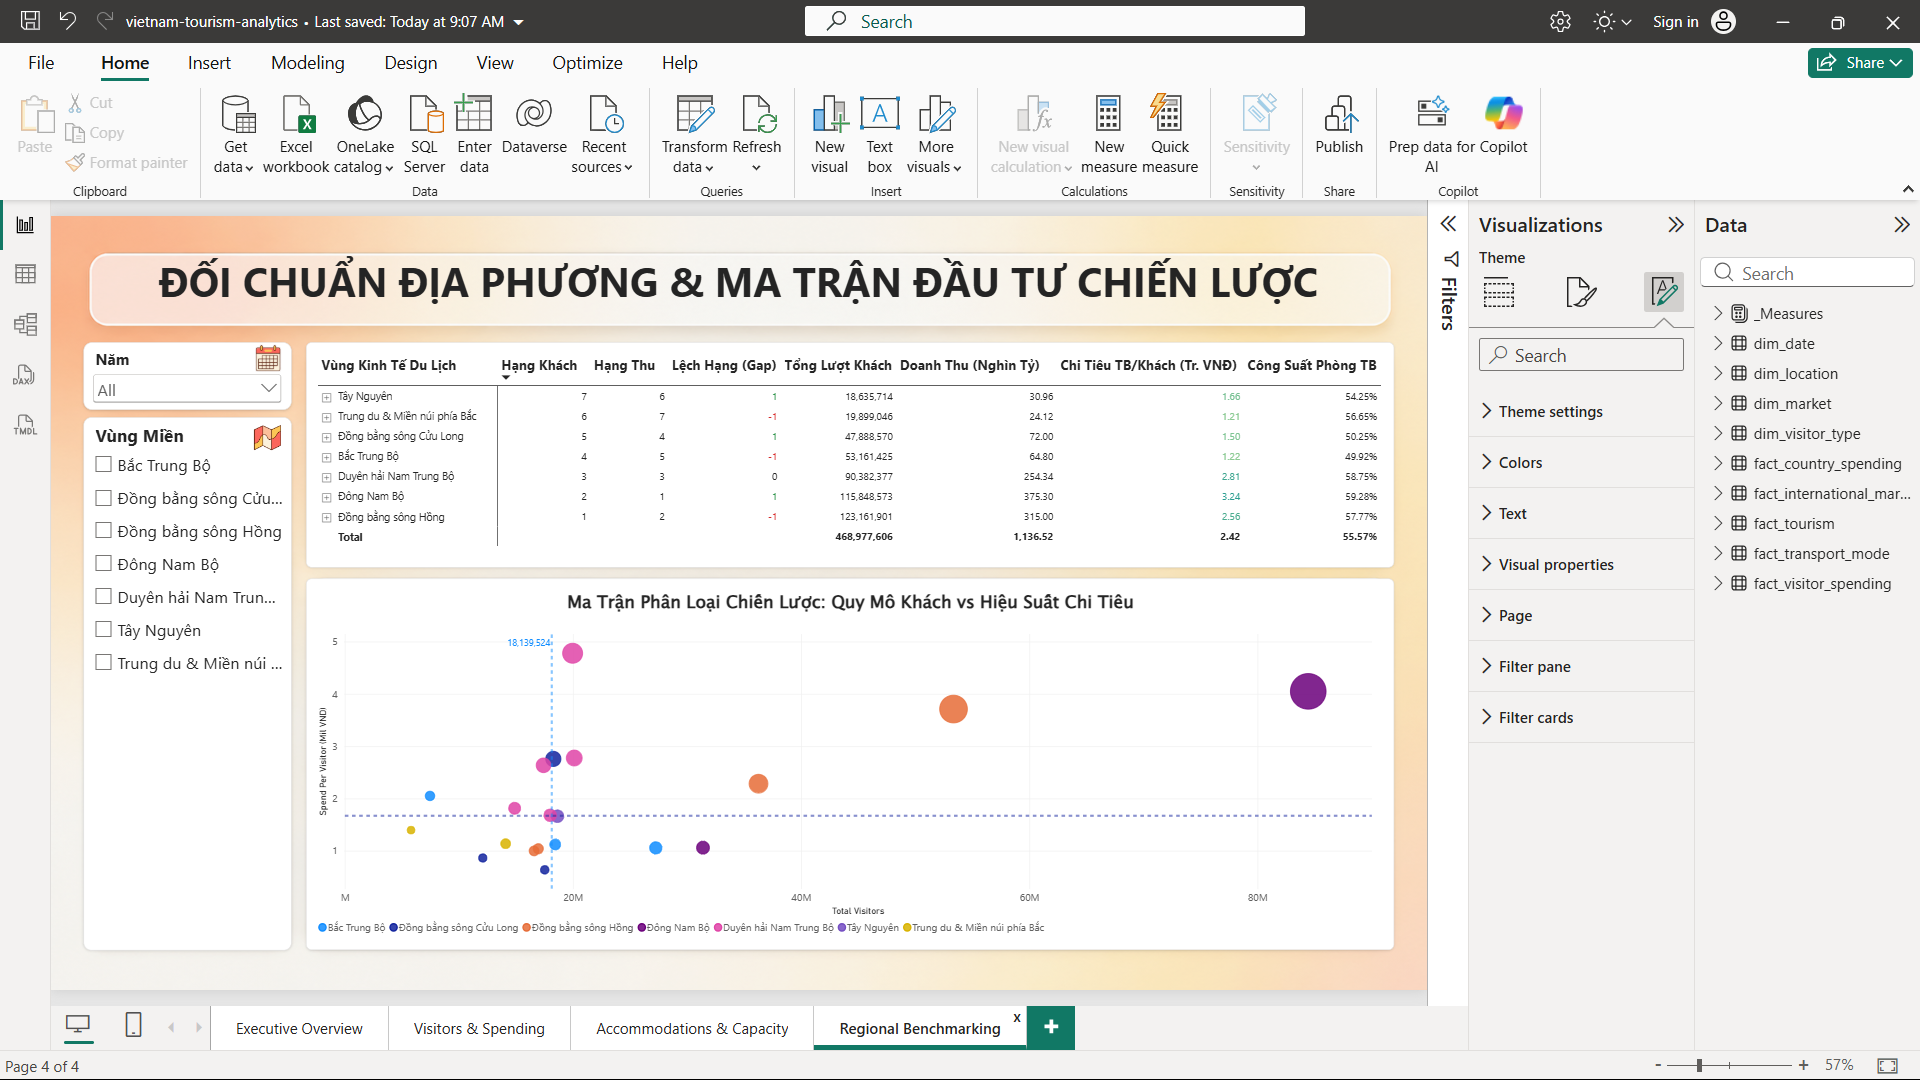

What the dashboard file says about the page in this screenshot:
{"tool":"powerbi","page":{"name":"Regional Benchmarking","canvas":[1920,1080],"ordinal":3},"visuals":[{"type":"slicer","fields":{"Values":["dim_date.Year"]},"box":[46,176,290,94],"z":0},{"type":"slicer","fields":{"Values":["dim_location.Region"]},"box":[46,280,290,744],"z":1000},{"type":"scatterChart","title":"Ma Trận Phân Loại Chiến Lược: Quy Mô Khách vs Hiệu Suất Chi Tiêu","fields":{"Category":["dim_location.Province"],"Series":["dim_location.Region"],"Size":["_Measures.Total Revenue (Nghìn Tỷ)"],"X":["_Measures.Total Visitors"],"Y":["_Measures.Spend Per Visitor (Mil VND)"]},"box":[356,506,1518,518],"z":2000},{"type":"pivotTable","fields":{"Rows":["dim_location.Region","dim_location.Province"],"Values":["_Measures.Dynamic Rank by Visitors","_Measures.Dynamic Rank by Revenue","_Measures.Dynamic Rank Gap","_Measures.Total Visitors","_Measures.Total Revenue (Nghìn Tỷ)","_Measures.Spend Per Visitor (Mil VND)","_Measures.Average Occupancy Rate"]},"box":[356,176,1518,314],"z":3000},{"type":"textbox","box":[46,52,1828,110],"z":4000},{"type":"image","box":[262,172,84,46],"z":5000},{"type":"image","box":[254,288,96,44],"z":6000}]}

Visuals, with their boxes on the page's 1920x1080 design canvas (x1, y1, x2, y2). These are canvas units, not pixel positions in the 1920x1080 screenshot, which may show the page scaled, cropped or inside an application window:
slicer - dim_date.Year: 46,176,336,270
slicer - dim_location.Region: 46,280,336,1024
"Ma Trận Phân Loại Chiến Lược: Quy Mô Khách vs Hiệu Suất Chi Tiêu" scatterChart: 356,506,1874,1024
pivotTable - dim_location.Region x dim_location.Province: 356,176,1874,490
textbox: 46,52,1874,162
image: 262,172,346,218
image: 254,288,350,332
